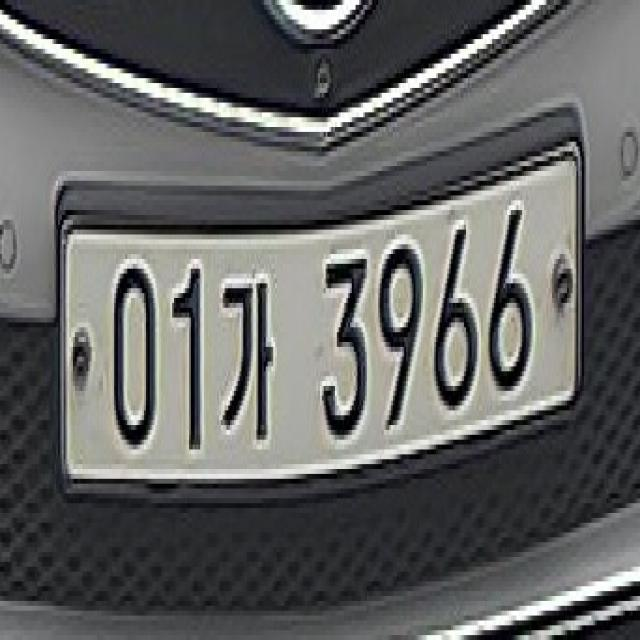0: (99, 247, 162, 466)
1: (166, 252, 214, 467)
3: (317, 246, 373, 453)
6: (484, 184, 540, 408), (431, 208, 482, 436)
9: (376, 227, 428, 452)
ga: (218, 252, 288, 462)
license_plate: (49, 140, 584, 496)
